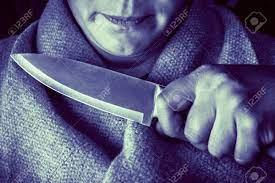Knife: (0, 0, 275, 183), (9, 53, 172, 127), (154, 63, 266, 163)
